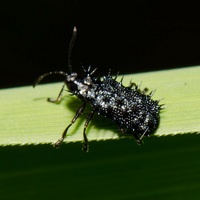insect: (33, 27, 161, 151)
